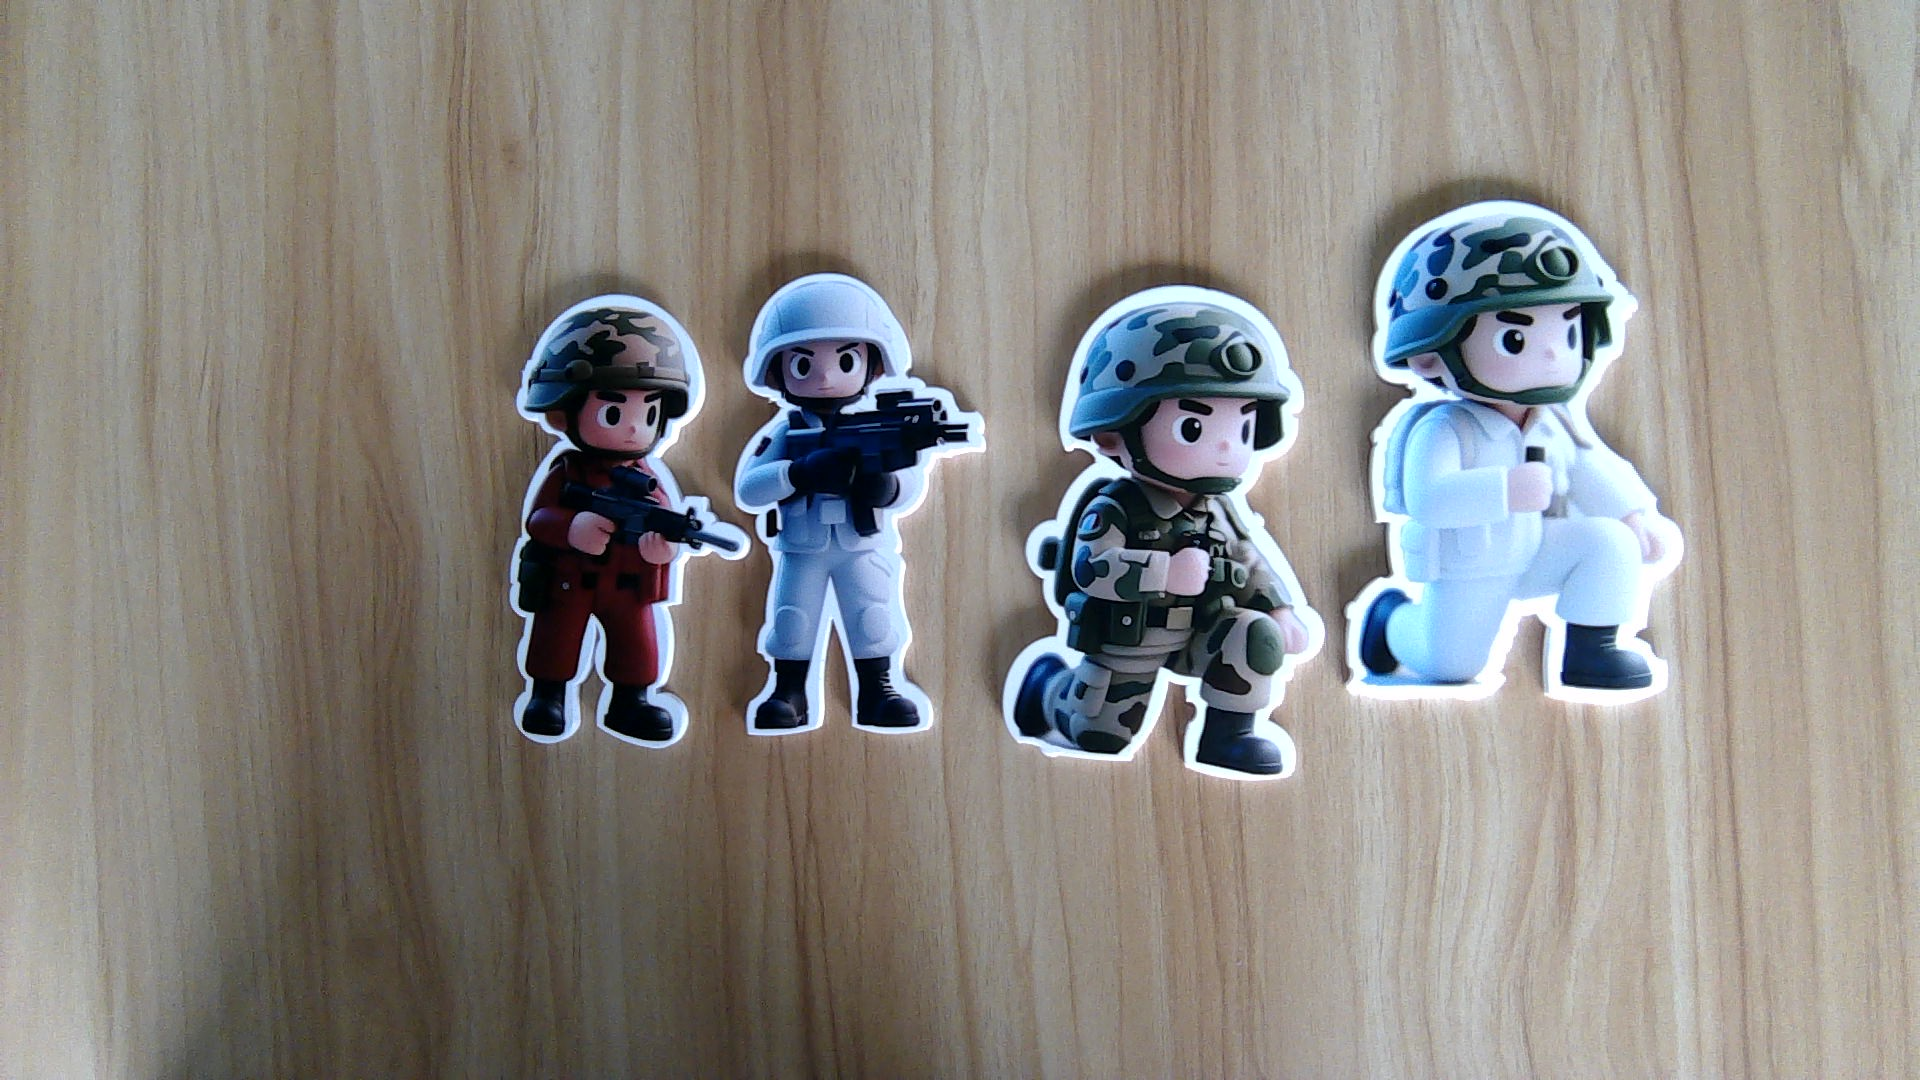人质: (1346, 400, 1688, 708), (735, 405, 986, 744)
友军: (998, 480, 1325, 786)
敌人1: (495, 450, 716, 760)
